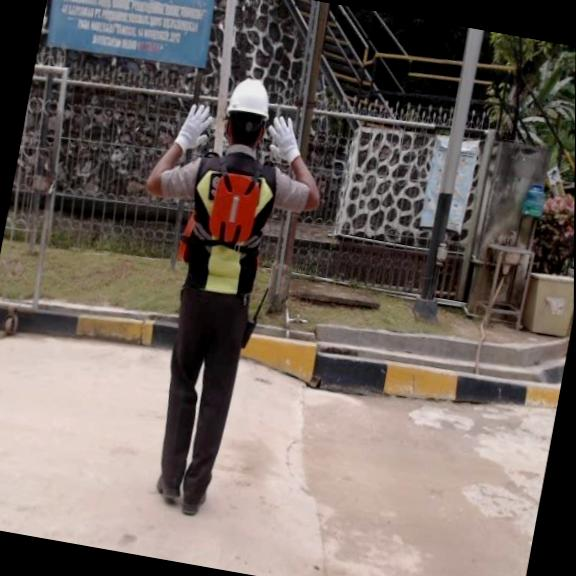safety_vest: (200, 162, 268, 248)
